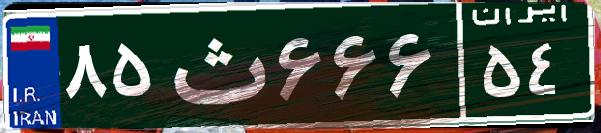4: (525, 38, 570, 115)
5: (475, 38, 525, 113), (110, 28, 158, 105)
6: (385, 28, 445, 110), (273, 28, 330, 110), (330, 28, 385, 110)
8: (57, 26, 110, 107)
ث: (158, 15, 273, 115)
